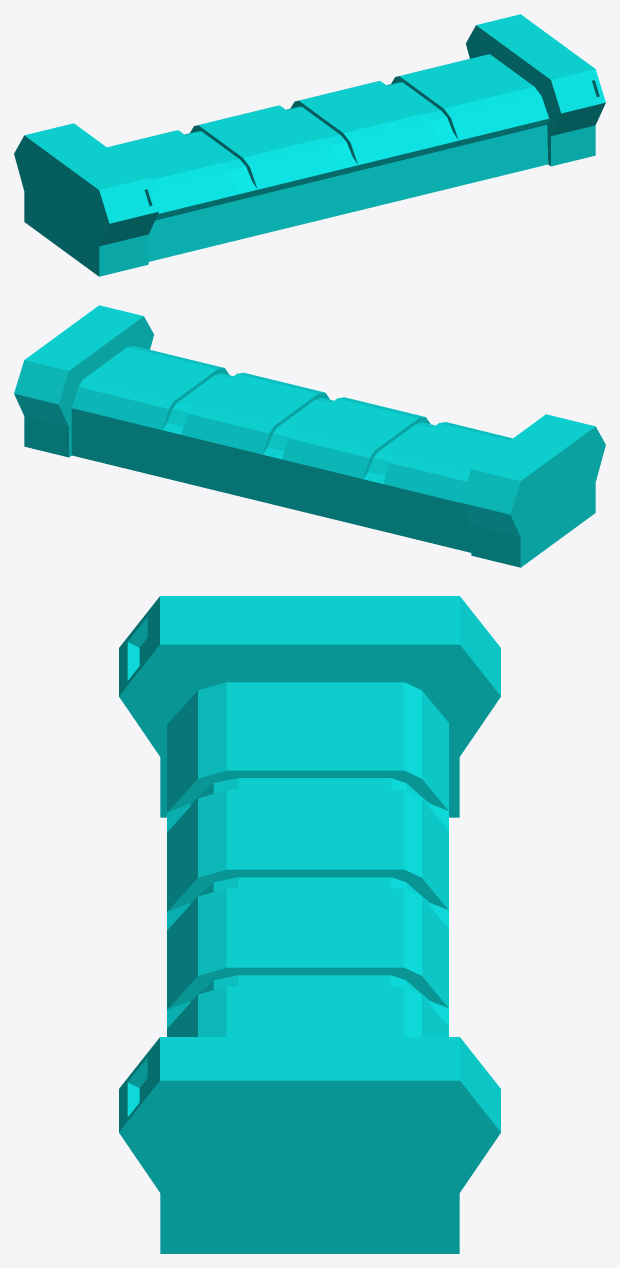
Rendered from SM_MetalCouch.fbx.
3 views of the same model, one above another, from view 1: azimuth 30°, elevation 25°; view 2: azimuth 150°, elevation 25°; view 3: azimuth 270°, elevation 25° (orthographic). The views are drawn at different scales.
Parts seen in each view (by area): view 1: Couch; view 2: Couch; view 3: Couch.
Boxes of the visible parts, left/top/right/bottom form: Couch: left=14, top=14, right=605, bottom=276; Couch: left=14, top=305, right=605, bottom=567; Couch: left=119, top=596, right=500, bottom=1253.
Size of the model in its own units: 720 by 120 by 240.
